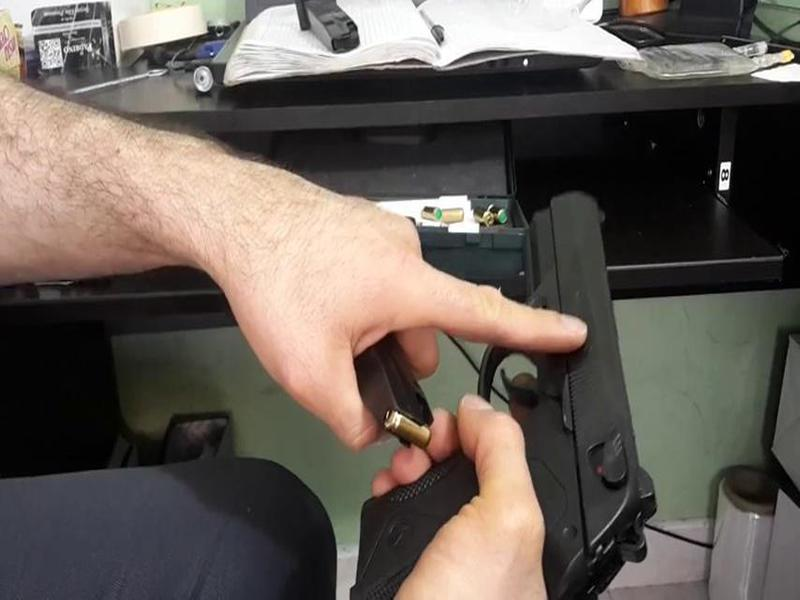Pistola: (327, 174, 694, 585)
